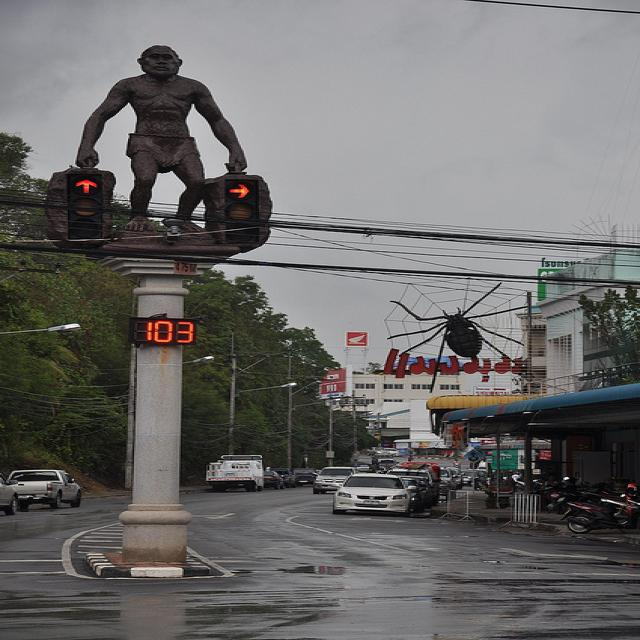motor: (561, 498, 639, 534), (556, 476, 617, 514), (572, 483, 640, 510)
